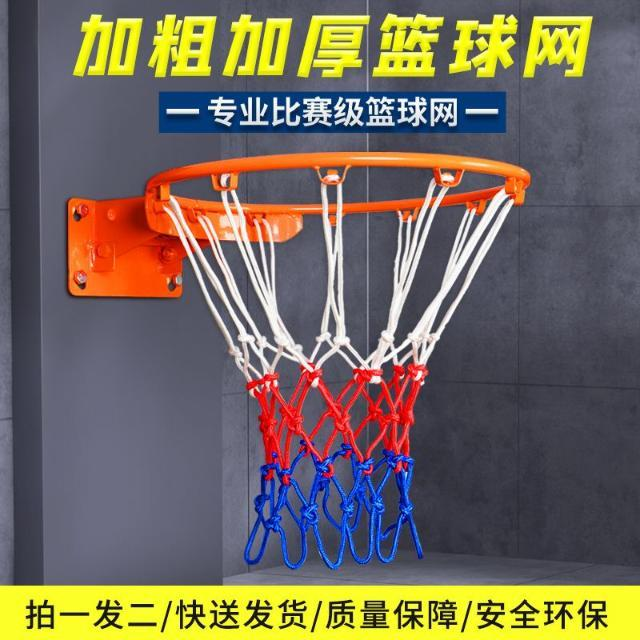rim: (142, 150, 530, 572)
